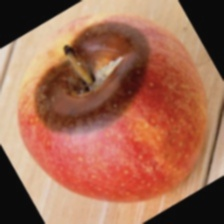apple: (59, 5, 201, 181)
